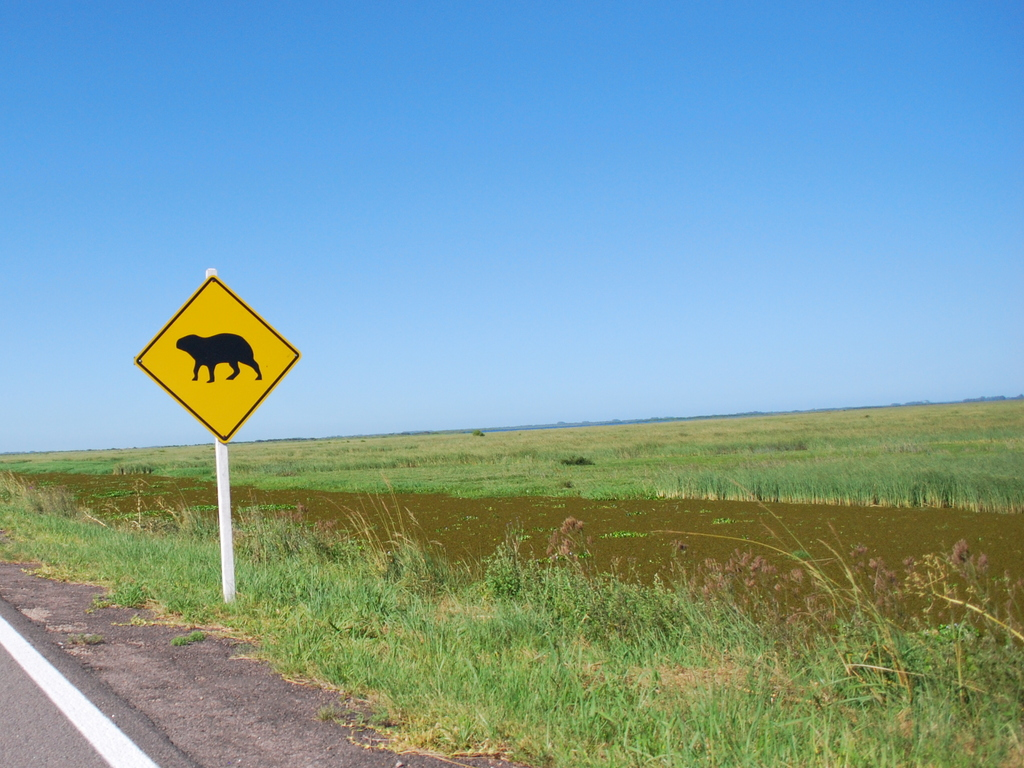animals_ahead: (133, 276, 302, 448)
